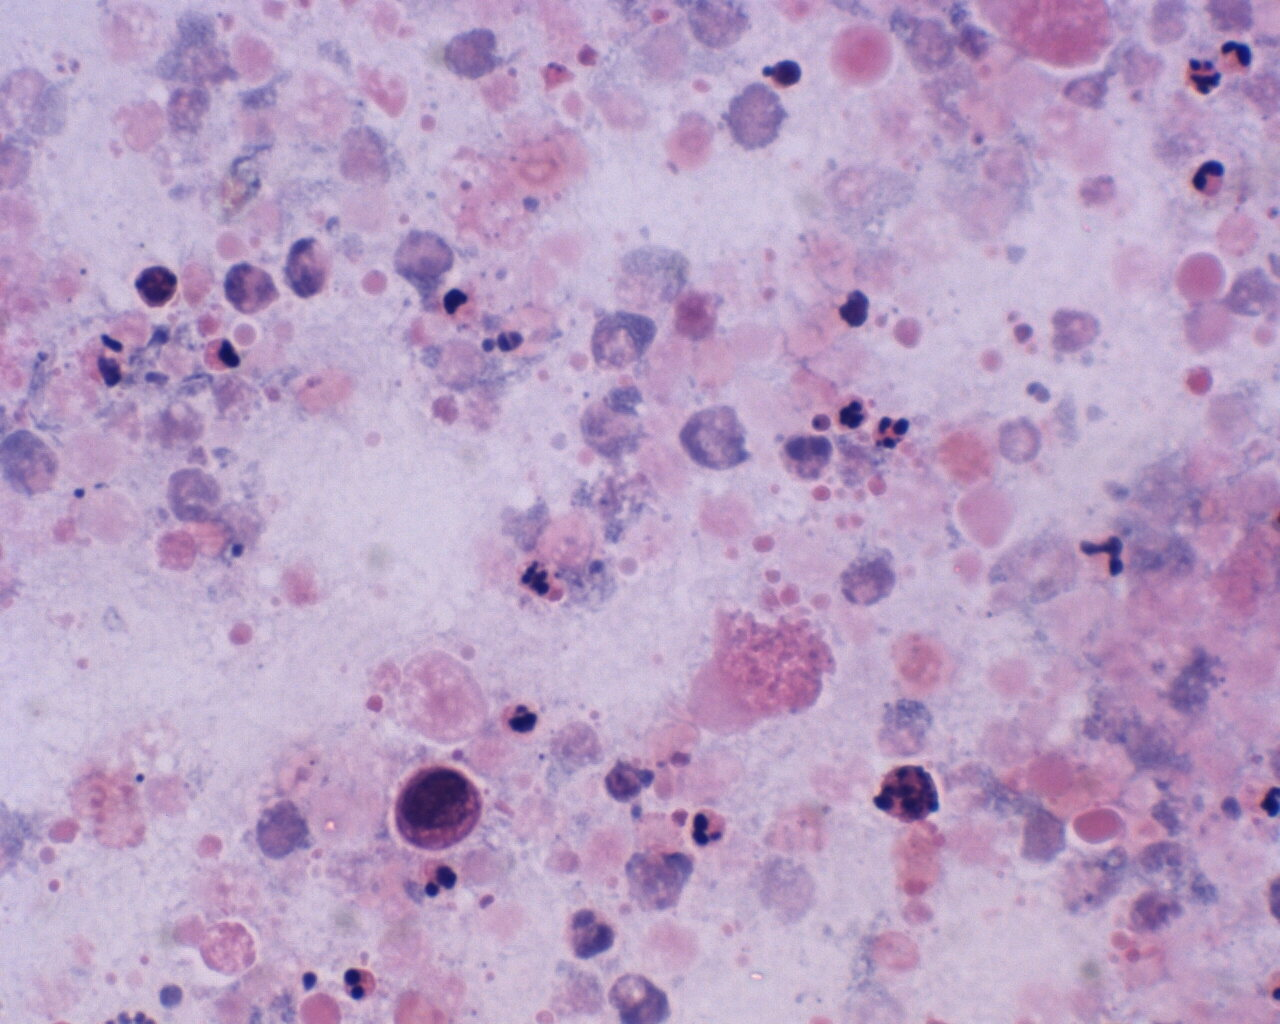ab: (394, 759, 487, 856)
neutro: (683, 799, 727, 850), (1194, 152, 1227, 200)
